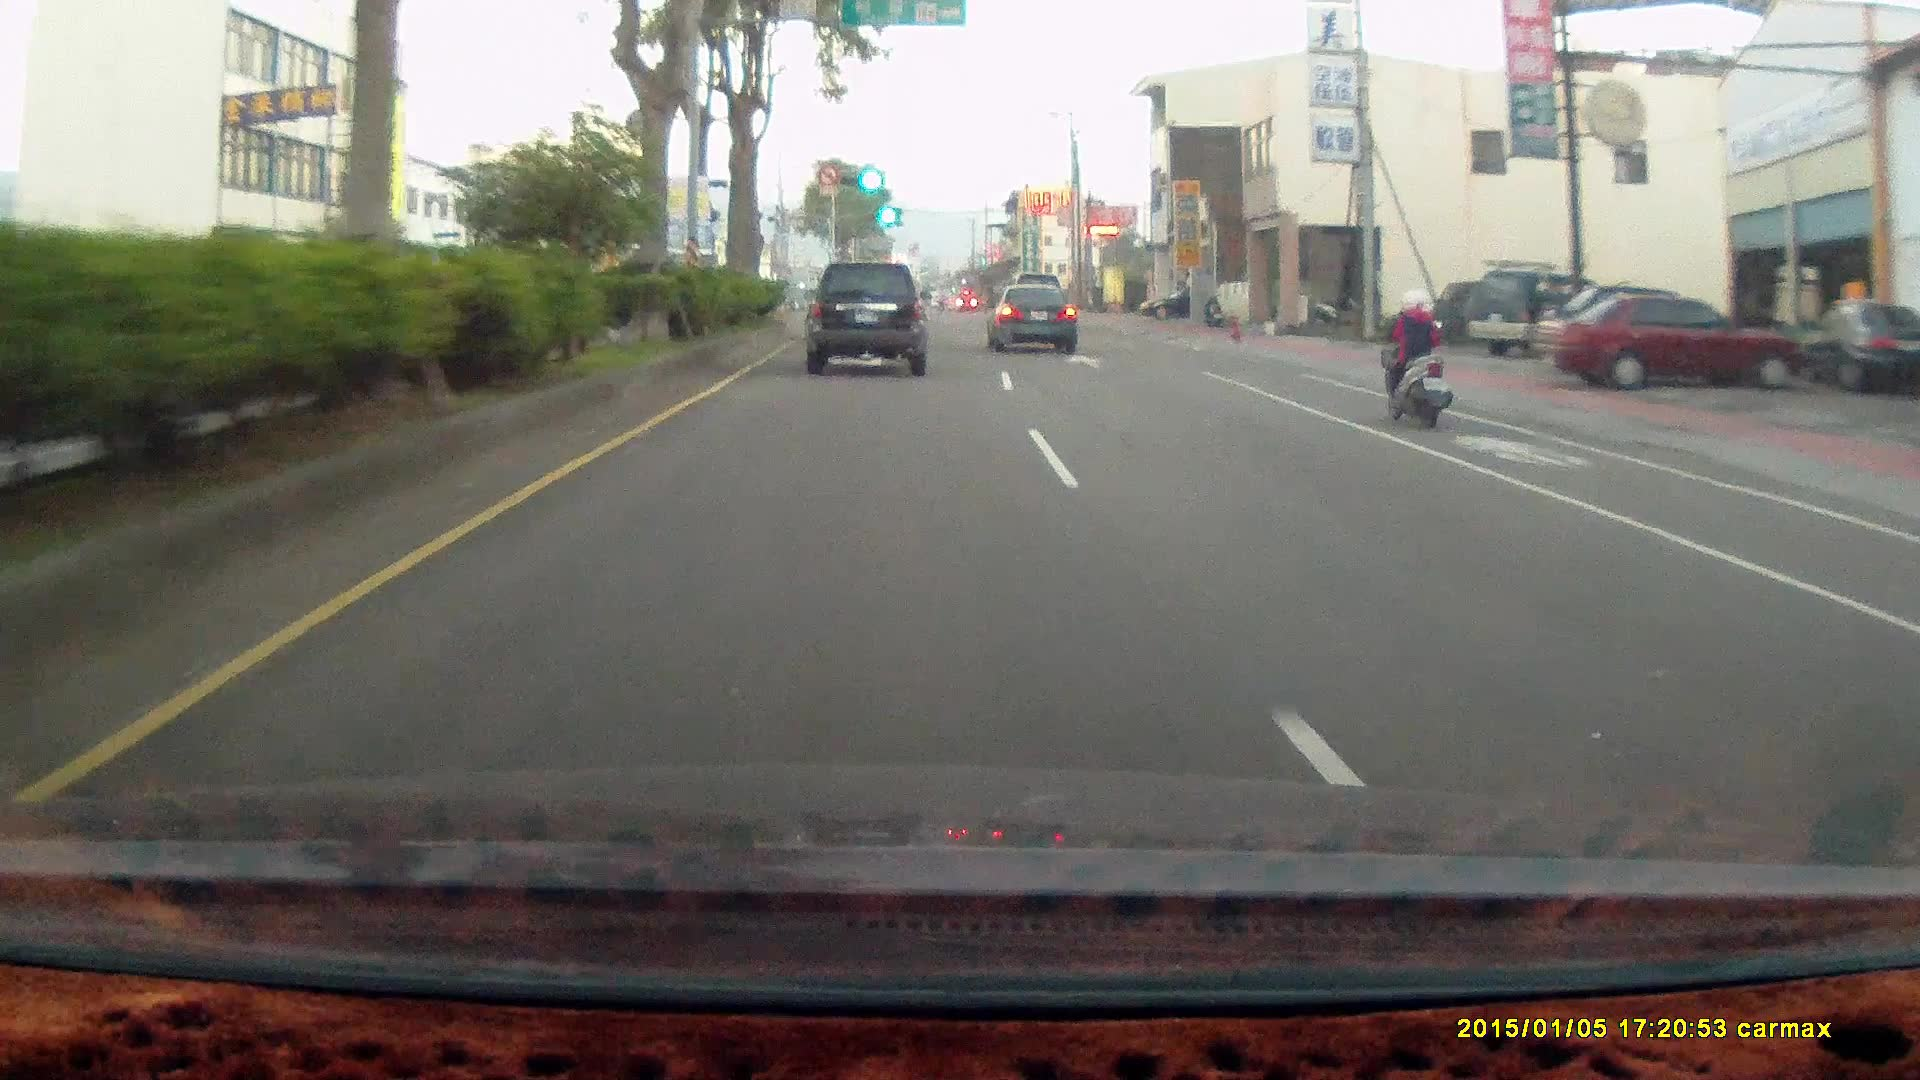rider: (1361, 272, 1469, 441), (1376, 290, 1452, 432)
vehicle: (1546, 297, 1810, 400), (1533, 293, 1808, 390), (807, 268, 931, 382), (806, 261, 930, 375), (1464, 271, 1617, 361), (1467, 273, 1602, 363), (1792, 300, 1920, 391), (986, 285, 1079, 355), (986, 282, 1077, 352), (1138, 285, 1221, 319), (1137, 285, 1192, 323)
